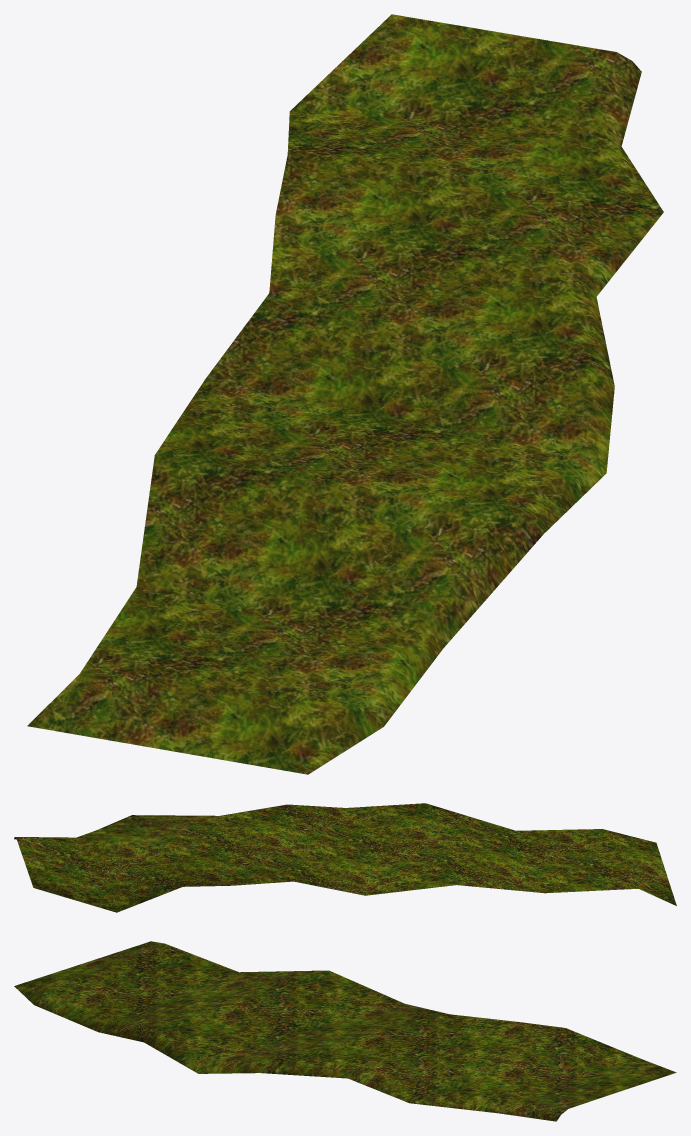
Rendered from TROLLHOLE02_RM_PSURF249.obj.
3 views of the same model, one above another, from view 1: azimuth 30°, elevation 25°; view 2: azimuth 150°, elevation 25°; view 3: azimuth 270°, elevation 25° (orthographic). The views are drawn at different scales.
Parts seen in each view (by area): view 1: RM_Psurf249; view 2: RM_Psurf249; view 3: RM_Psurf249.
Boxes of the visible parts, left/top/right/bottom form: RM_Psurf249: left=27, top=14, right=663, bottom=774; RM_Psurf249: left=14, top=803, right=676, bottom=912; RM_Psurf249: left=14, top=941, right=676, bottom=1121.
Size of the model in its own units: 2718 by 463 by 2820.
